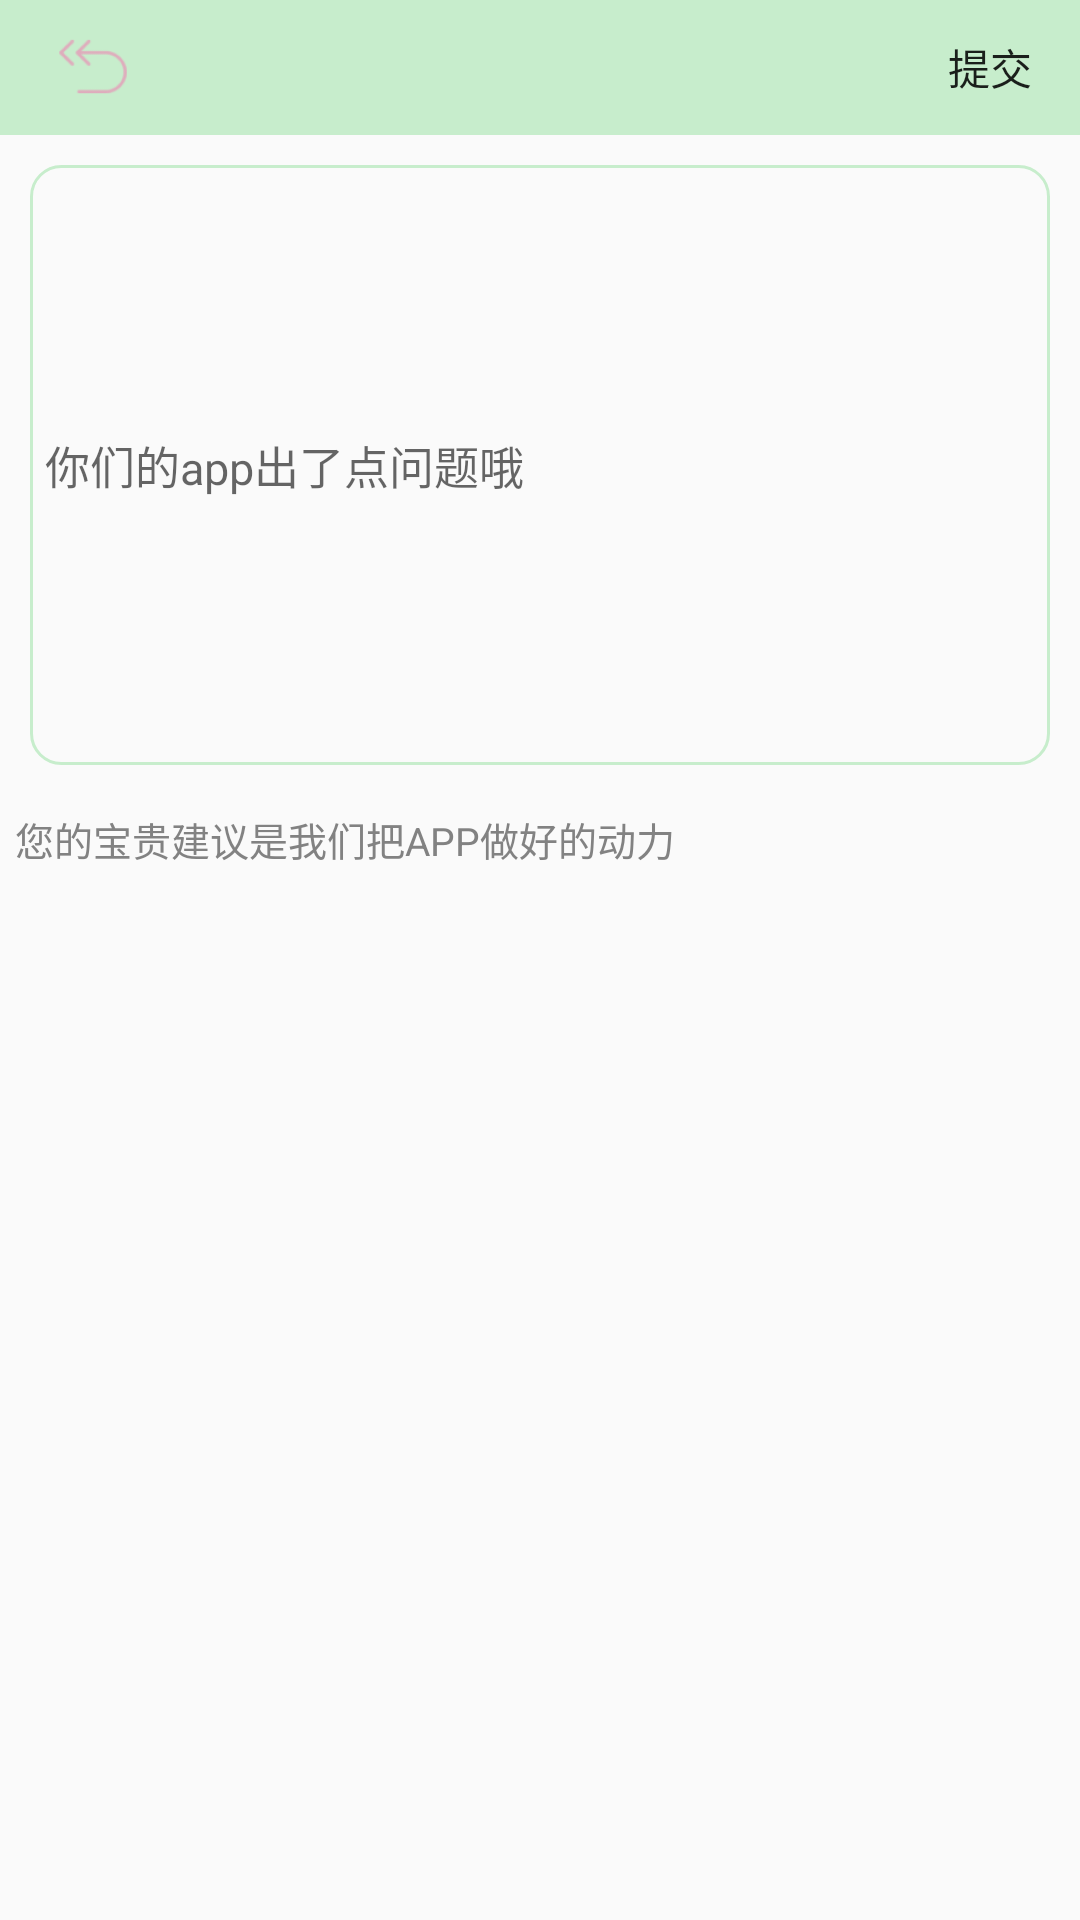

Icon click points for this 1080 x 1920 phone screenshot, format (x,y):
callback: (93,66)
